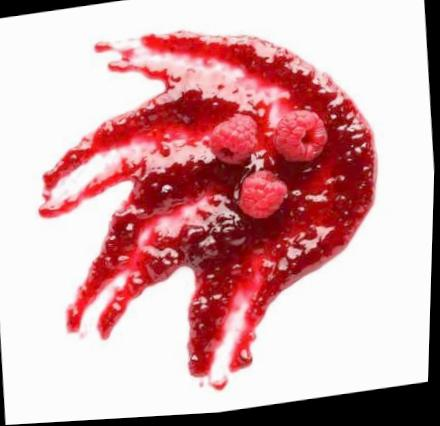Fire: (39, 33, 378, 393)
